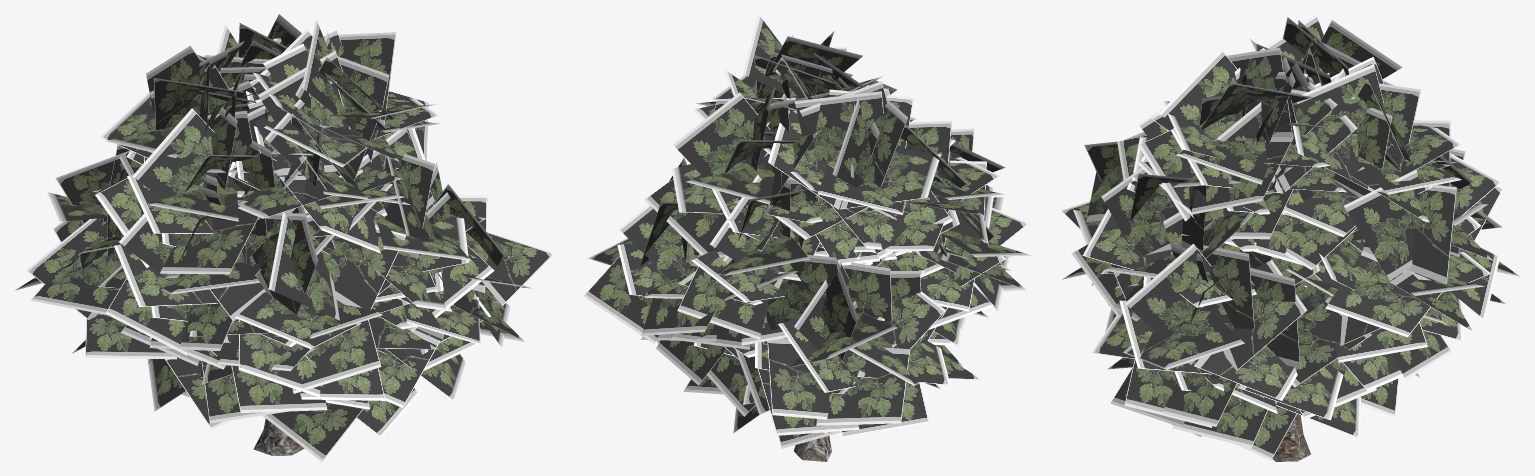
File: mainTree.glb
3 renders of one model, left to right at view 1: azimuth 30°, elevation 25°; view 2: azimuth 150°, elevation 25°; view 3: azimuth 270°, elevation 25°, orthographic. The views are drawn at different scales.
Parts seen in each view (by area): view 1: Shu_057; view 2: Shu_057; view 3: Shu_057.
Boxes of the visible parts, x1,y1,x2,y2 form: Shu_057: (15,14,553,461); Shu_057: (583,14,1031,461); Shu_057: (1061,14,1520,461).
Bounding box in the file's own units: 0.8272 × 0.8165 × 0.806.
Materials: 1 (1 with a texture image).
